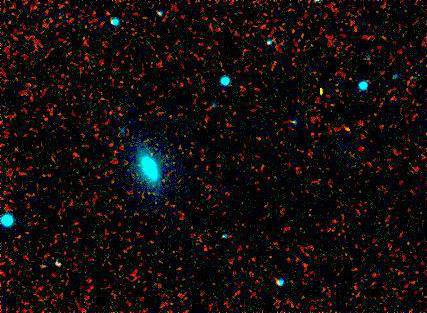star: (332, 117, 362, 147)
